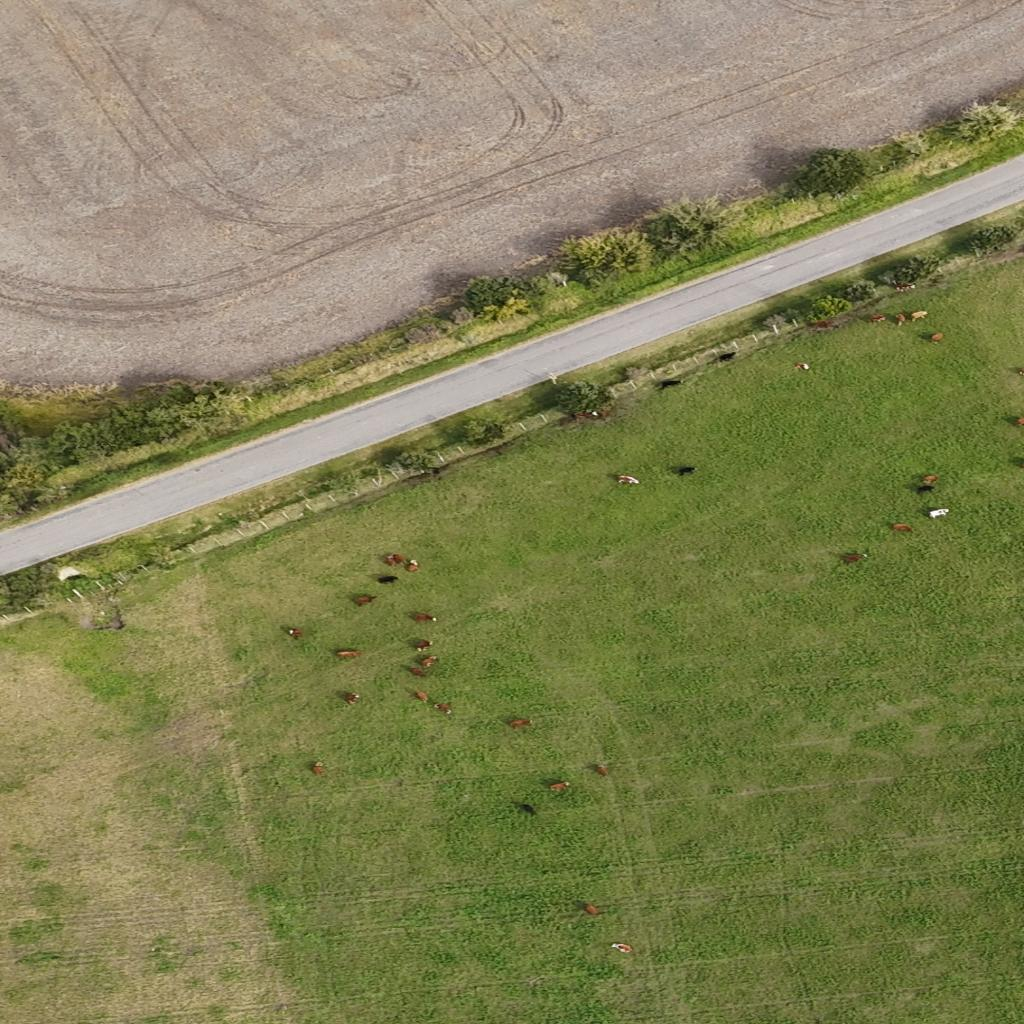cow: (575, 408, 608, 422), (354, 595, 379, 606), (412, 640, 434, 652), (411, 614, 437, 624), (336, 650, 362, 660), (890, 524, 914, 534), (508, 719, 532, 729), (610, 943, 633, 953), (616, 475, 639, 485), (344, 692, 360, 706), (548, 782, 570, 792), (844, 553, 866, 563), (810, 320, 832, 330), (675, 466, 697, 476), (420, 656, 438, 668), (910, 310, 928, 322), (928, 508, 949, 518), (660, 380, 681, 390), (594, 764, 610, 777), (412, 691, 429, 703), (520, 804, 537, 816), (434, 703, 452, 714), (311, 762, 325, 776), (406, 560, 422, 572), (583, 904, 599, 916), (916, 485, 935, 495), (868, 314, 886, 324), (717, 353, 735, 363), (894, 284, 916, 292), (409, 667, 426, 677), (288, 628, 302, 640), (922, 474, 938, 484), (393, 553, 406, 564), (930, 333, 944, 343), (380, 576, 397, 584), (895, 314, 906, 326), (794, 362, 810, 370), (384, 555, 394, 567), (430, 467, 442, 477), (1015, 417, 1024, 428), (1012, 368, 1024, 376)
